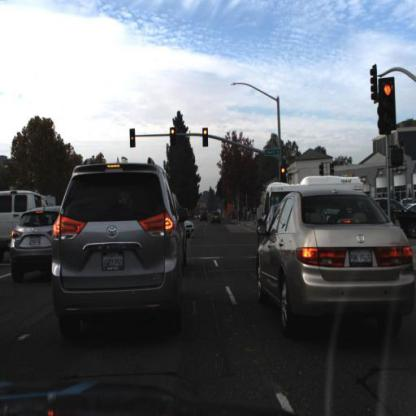car: (255, 188, 412, 341), (52, 160, 187, 333), (253, 179, 350, 222), (14, 206, 67, 279), (5, 184, 40, 276), (2, 185, 39, 260), (256, 203, 276, 252), (182, 208, 203, 237), (396, 203, 416, 229), (183, 217, 196, 243), (196, 207, 212, 226), (211, 208, 223, 231)
pedestrian: (390, 203, 402, 226)
trafficLight: (129, 125, 137, 149)
trafficLight-Red: (376, 75, 400, 141), (201, 125, 210, 149), (169, 127, 178, 148), (280, 165, 287, 186)
truck: (262, 179, 295, 228)
